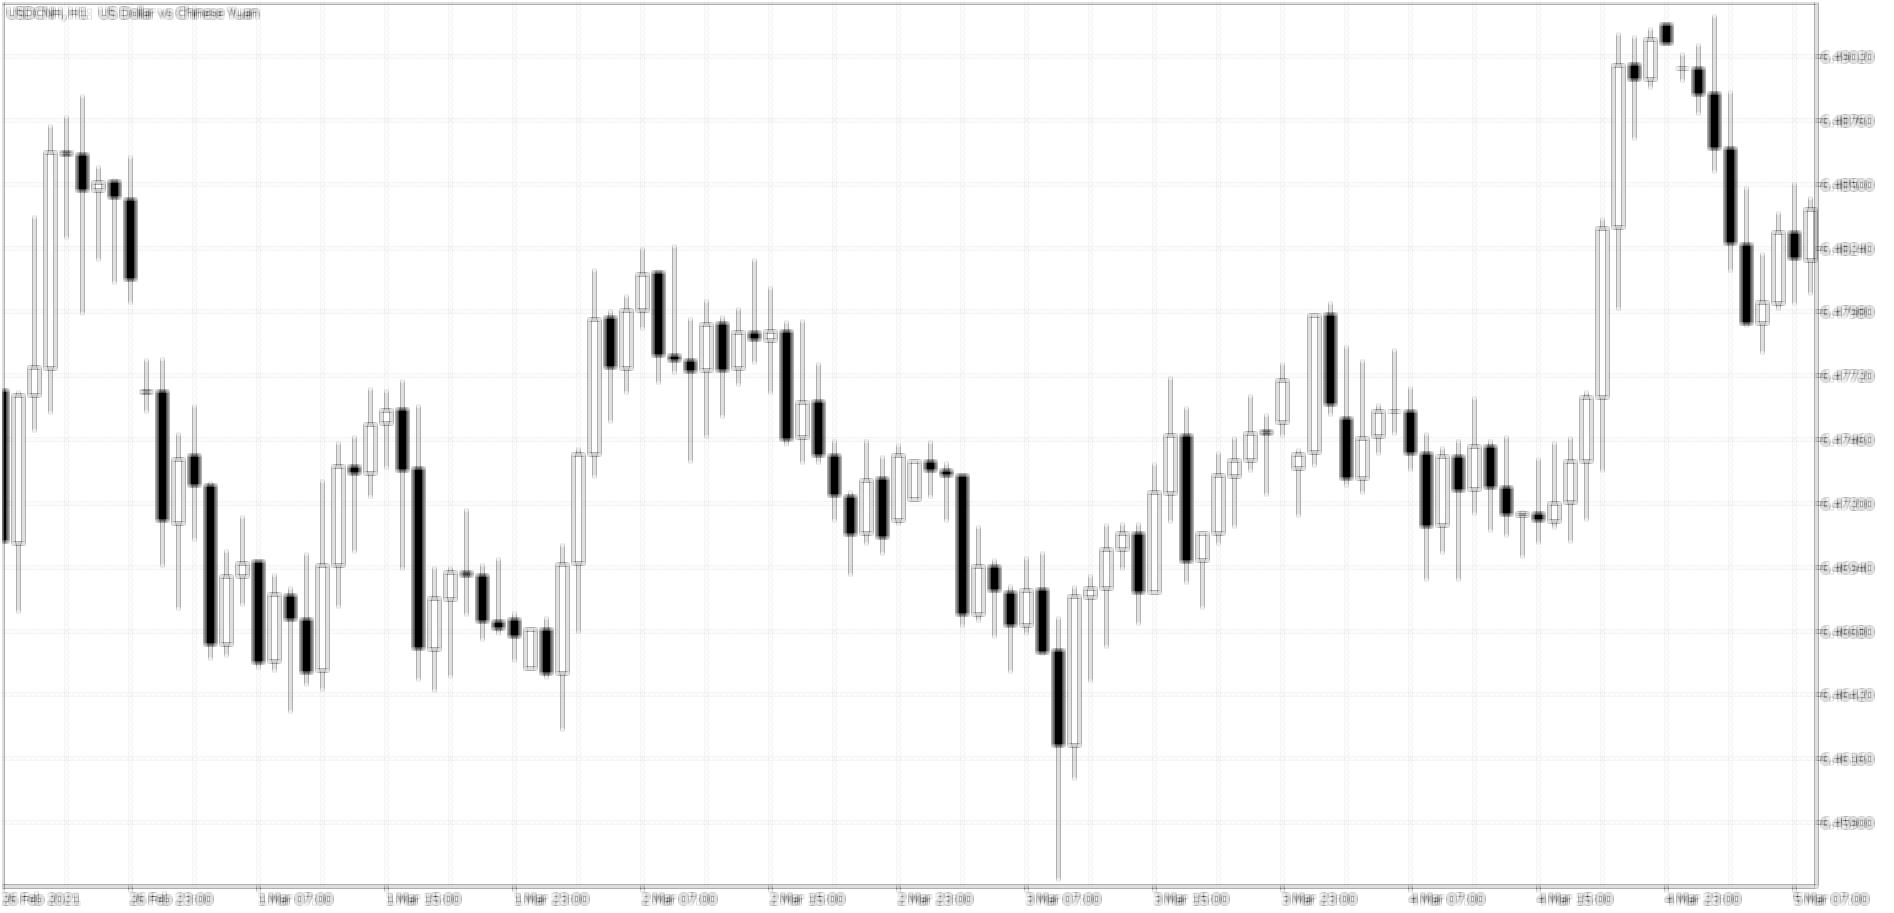3whitesoldiers: (554, 274, 605, 752)
bullishEngulfing: (1051, 583, 1083, 793)
hammer: (1193, 524, 1212, 613)
